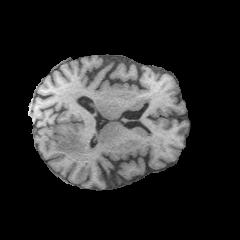glioma: (52, 130, 93, 155)
